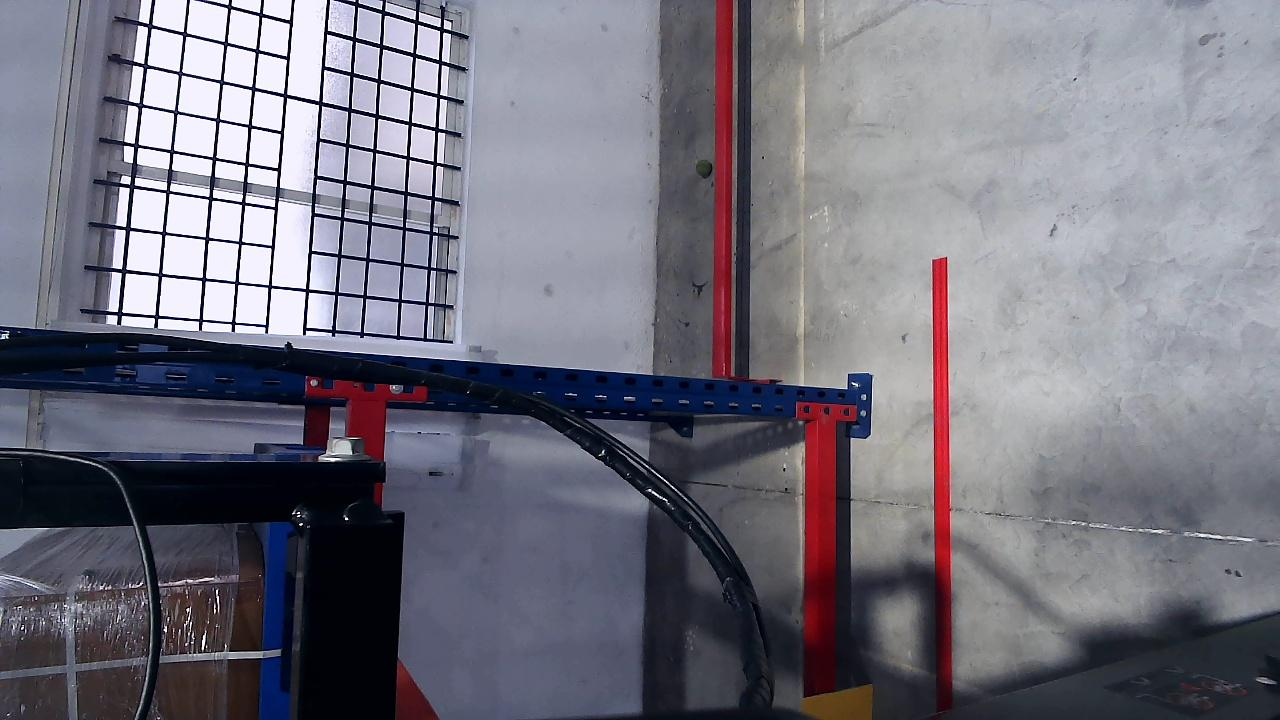h_rack: (804, 420, 837, 719)
orange_strip: (802, 684, 873, 719)
red_line: (930, 259, 955, 707)
